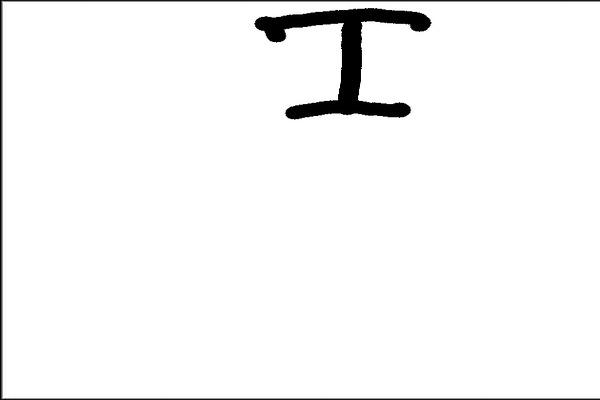i: (252, 2, 439, 121)
